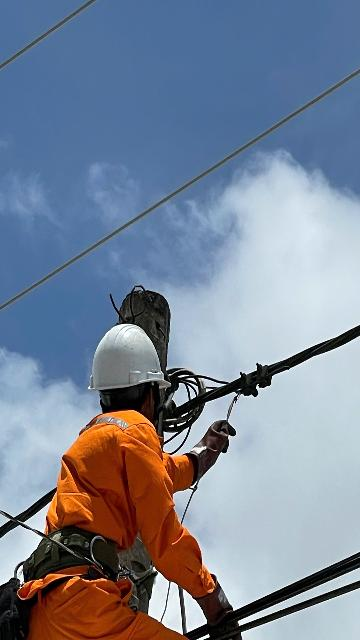gloves: (172, 417, 243, 492), (177, 572, 248, 640)
harness: (4, 518, 158, 603)
helmet: (68, 321, 175, 410)
